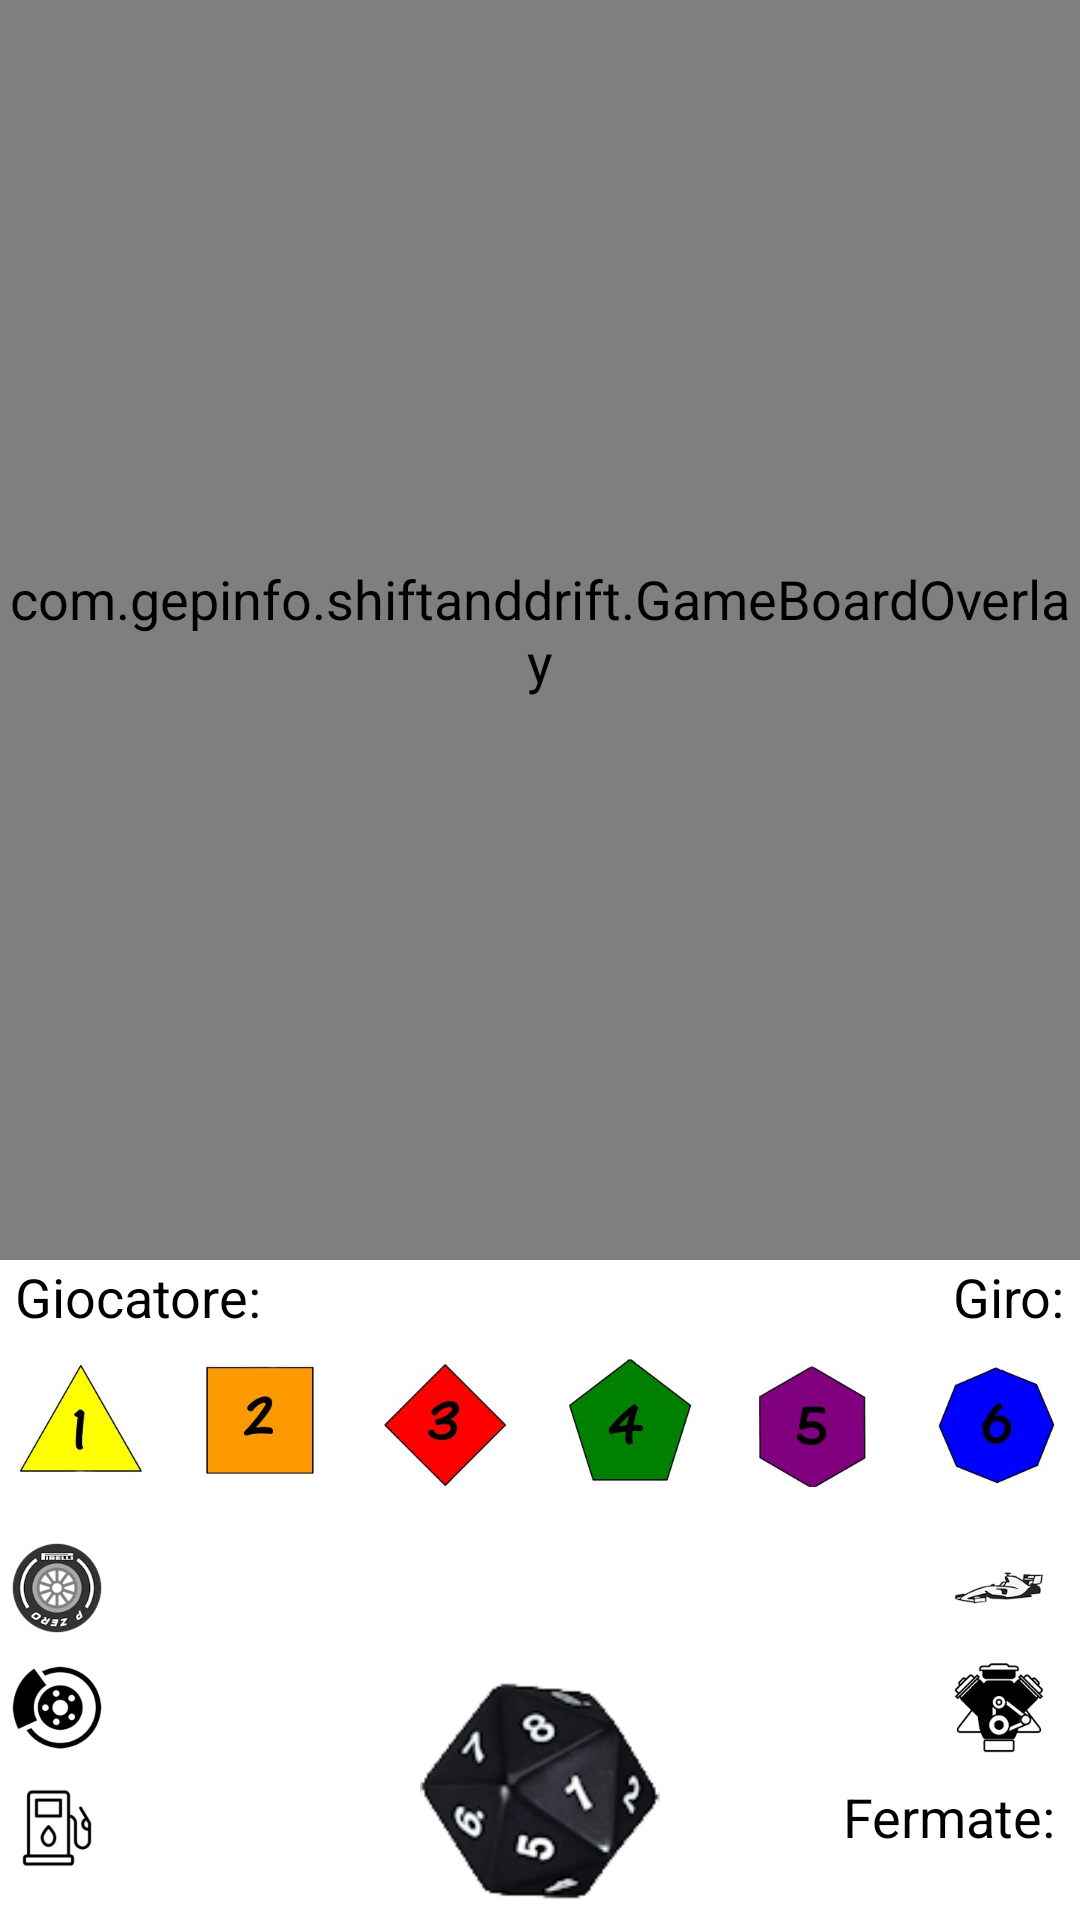

Named icons in this screenshot (1080x1920) and their centers, [x,y]:
body: [999,1588]
brake: [57,1707]
dado nero: [540,1791]
engine: [998,1708]
fuel: [57,1828]
